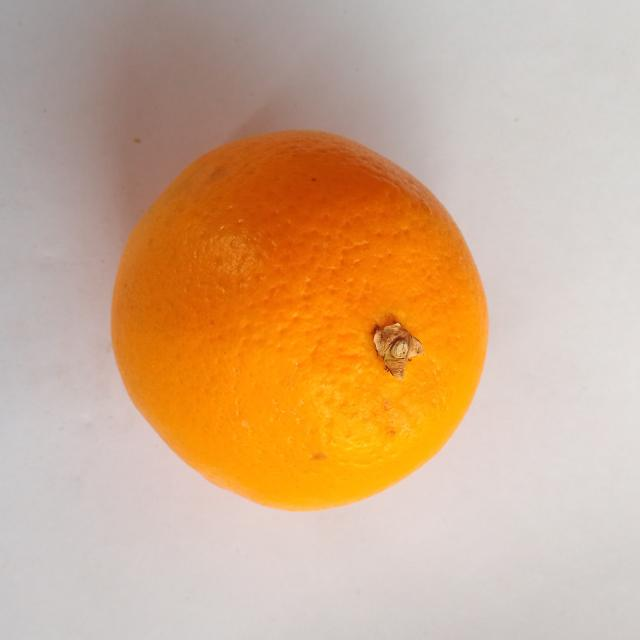orange: (112, 131, 487, 509)
